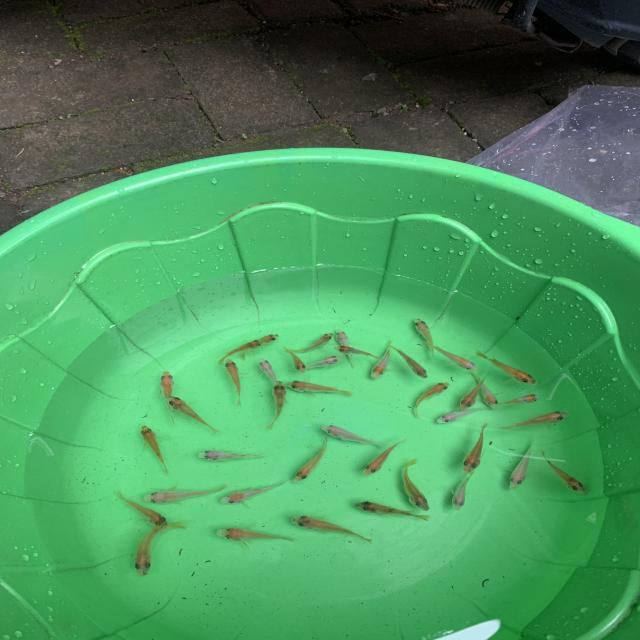nila: (131, 520, 189, 580), (470, 348, 542, 388), (287, 512, 374, 544), (532, 447, 588, 496), (208, 520, 298, 549), (164, 393, 225, 435), (112, 490, 176, 530), (289, 434, 336, 485), (359, 434, 411, 479), (350, 498, 438, 524), (217, 478, 294, 507), (421, 338, 482, 373), (401, 454, 435, 514), (506, 438, 542, 494), (137, 423, 173, 478), (132, 486, 230, 506), (406, 379, 453, 420), (458, 420, 490, 476), (456, 366, 494, 412), (316, 424, 392, 446), (388, 343, 433, 380), (468, 368, 506, 410), (497, 408, 571, 429), (284, 378, 361, 398), (218, 337, 268, 366), (433, 402, 496, 425), (366, 336, 398, 381), (157, 367, 181, 427), (255, 356, 289, 398), (409, 316, 439, 361), (290, 329, 336, 357), (241, 331, 284, 360), (222, 355, 245, 407), (197, 450, 269, 466), (488, 390, 546, 409), (330, 342, 384, 362), (451, 470, 476, 513), (296, 353, 344, 375), (266, 378, 286, 428), (280, 344, 312, 375), (336, 329, 358, 370)
